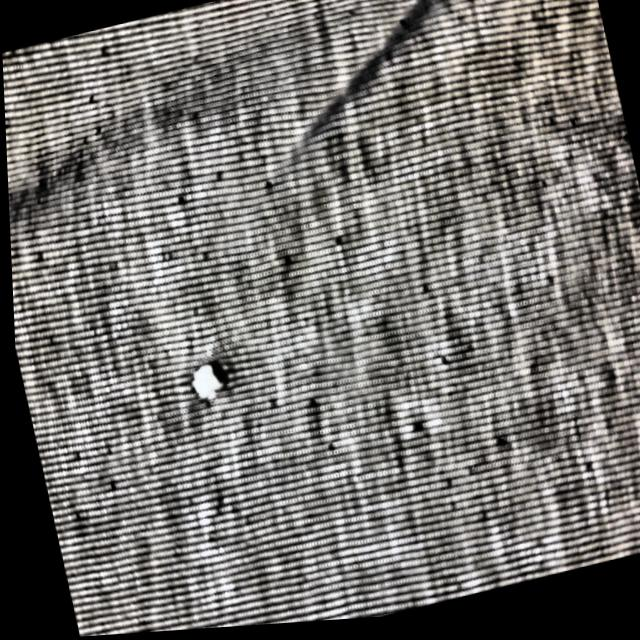Hole: (353, 420, 416, 487)
